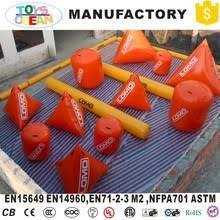buoy: (168, 80, 212, 138), (70, 47, 106, 88), (21, 125, 52, 160), (95, 116, 120, 154), (154, 50, 168, 74)
